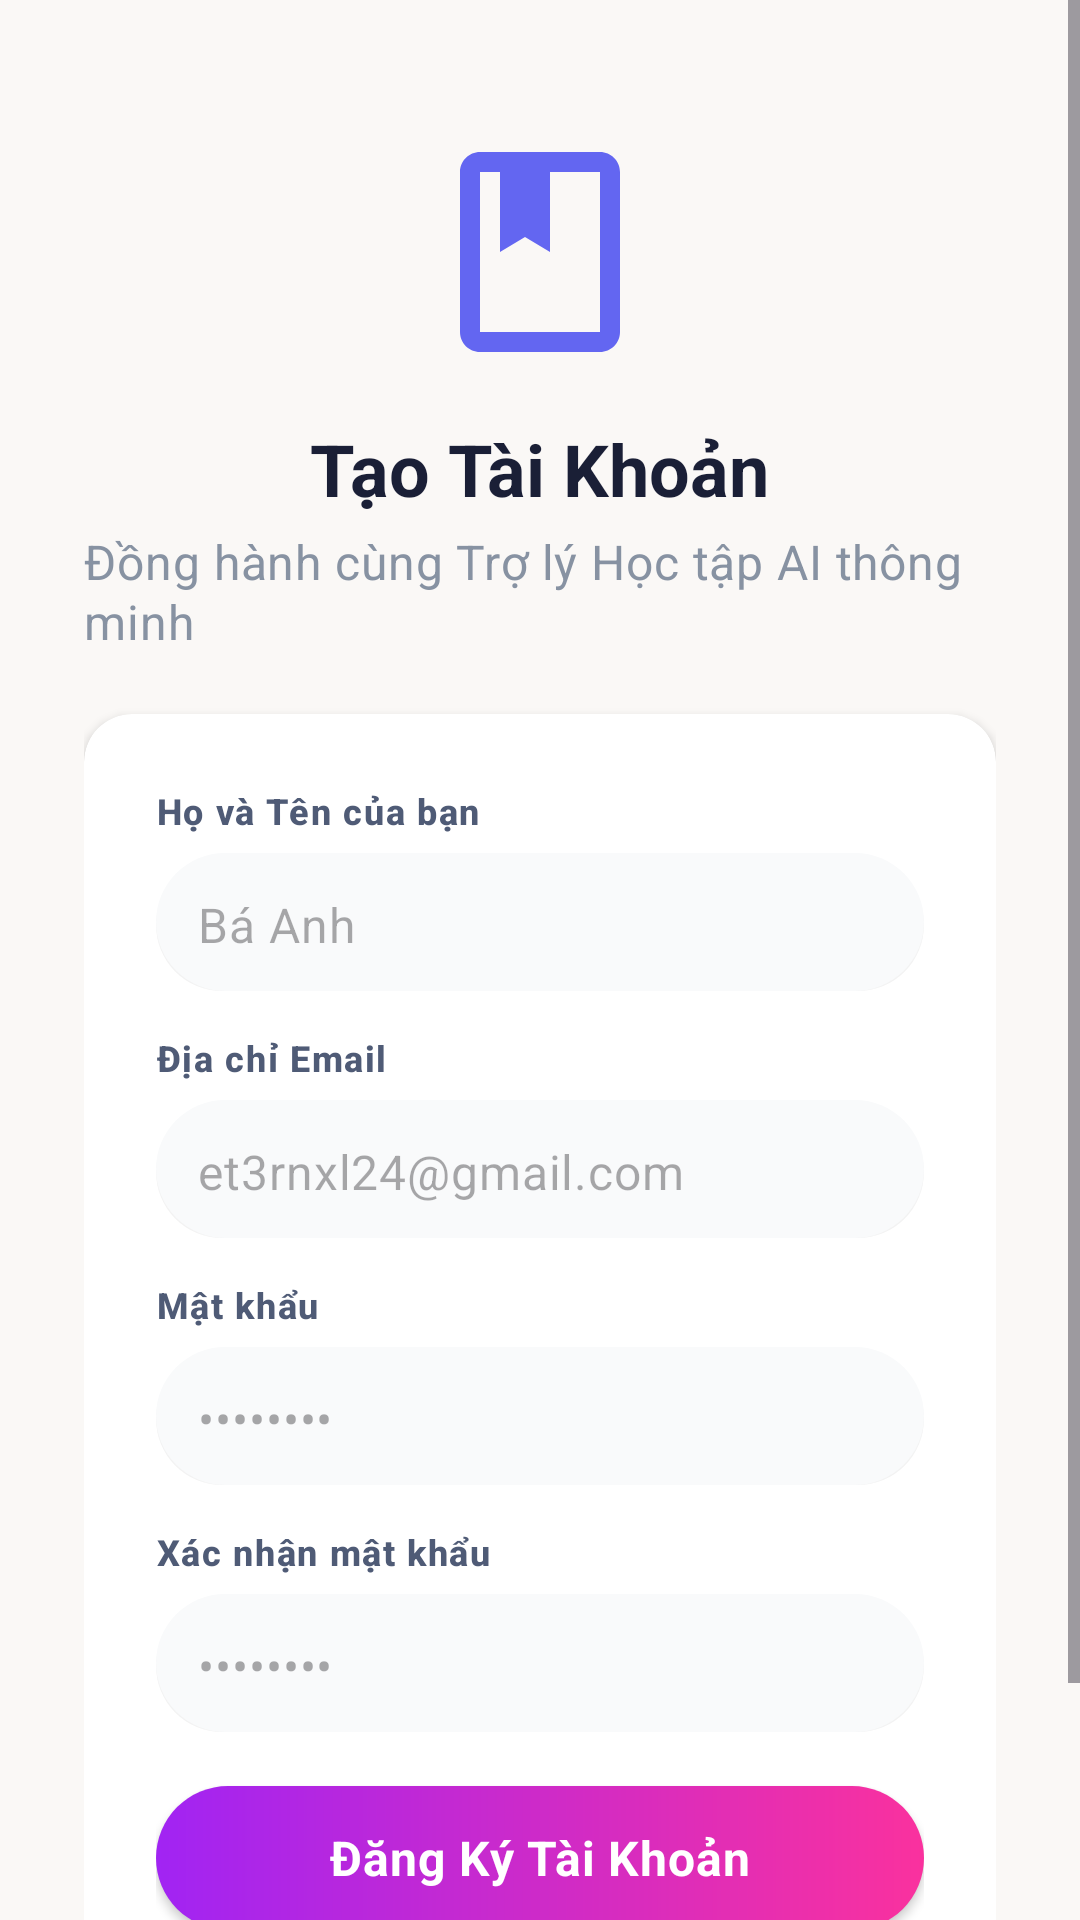

Locate icon controls on the screen. Image size 1080*1920, boxes as (x1, y1, x2, y2).
book: (460, 152, 620, 352)
